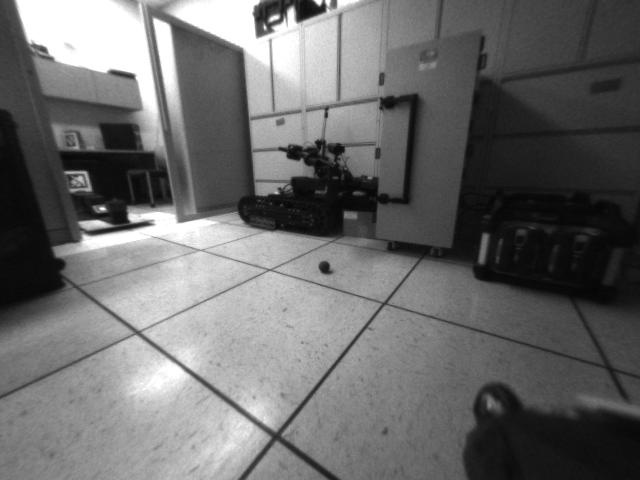dogtoy: (315, 253, 338, 279)
